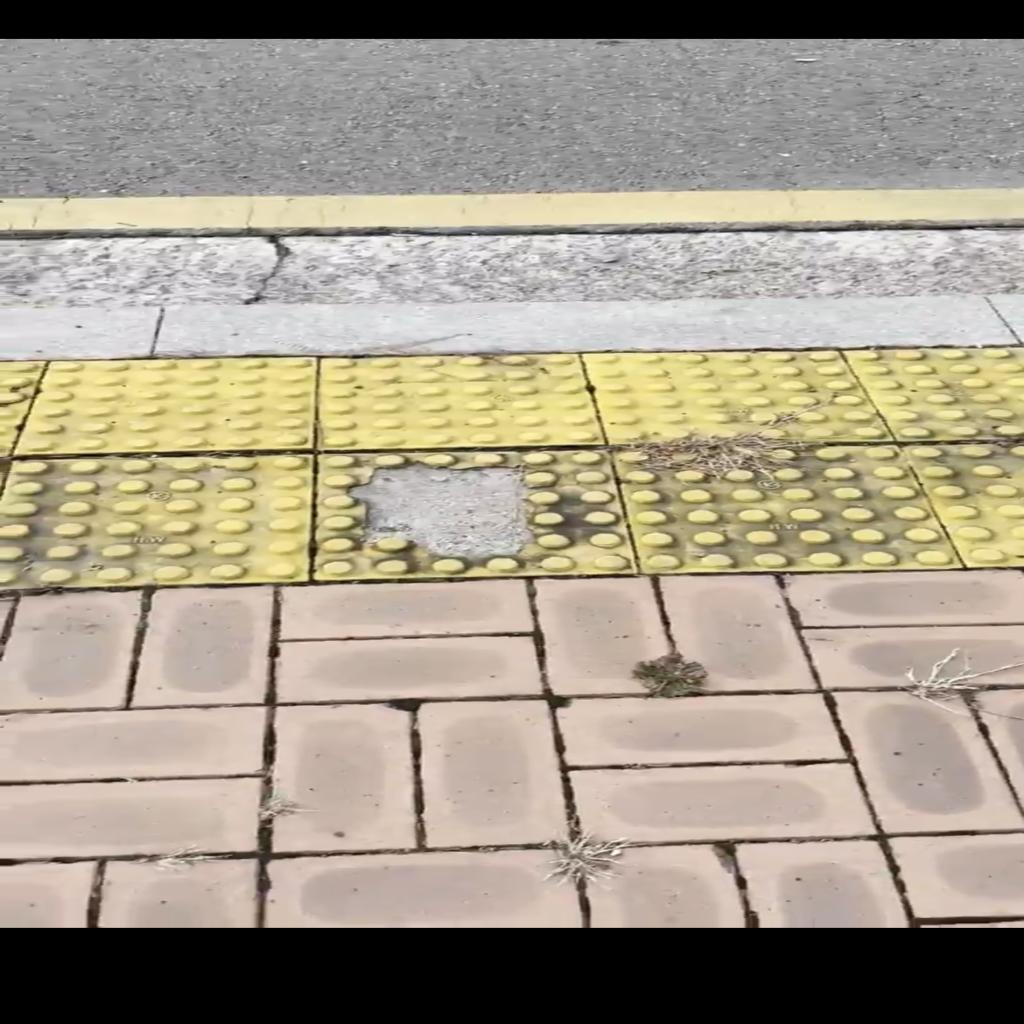Stop block broken: (312, 447, 634, 579)
Stop block normal: (617, 443, 960, 572), (12, 355, 319, 455), (584, 349, 889, 444), (318, 353, 605, 449)
